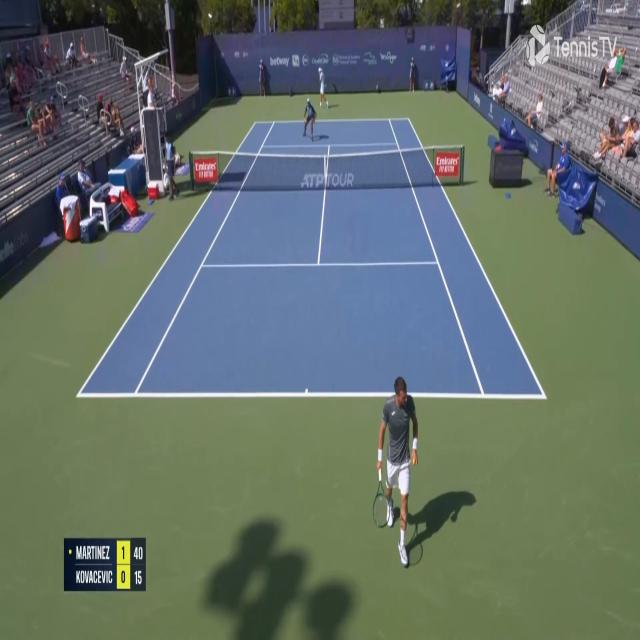tennis-player: (371, 372, 423, 571), (302, 96, 320, 140)
